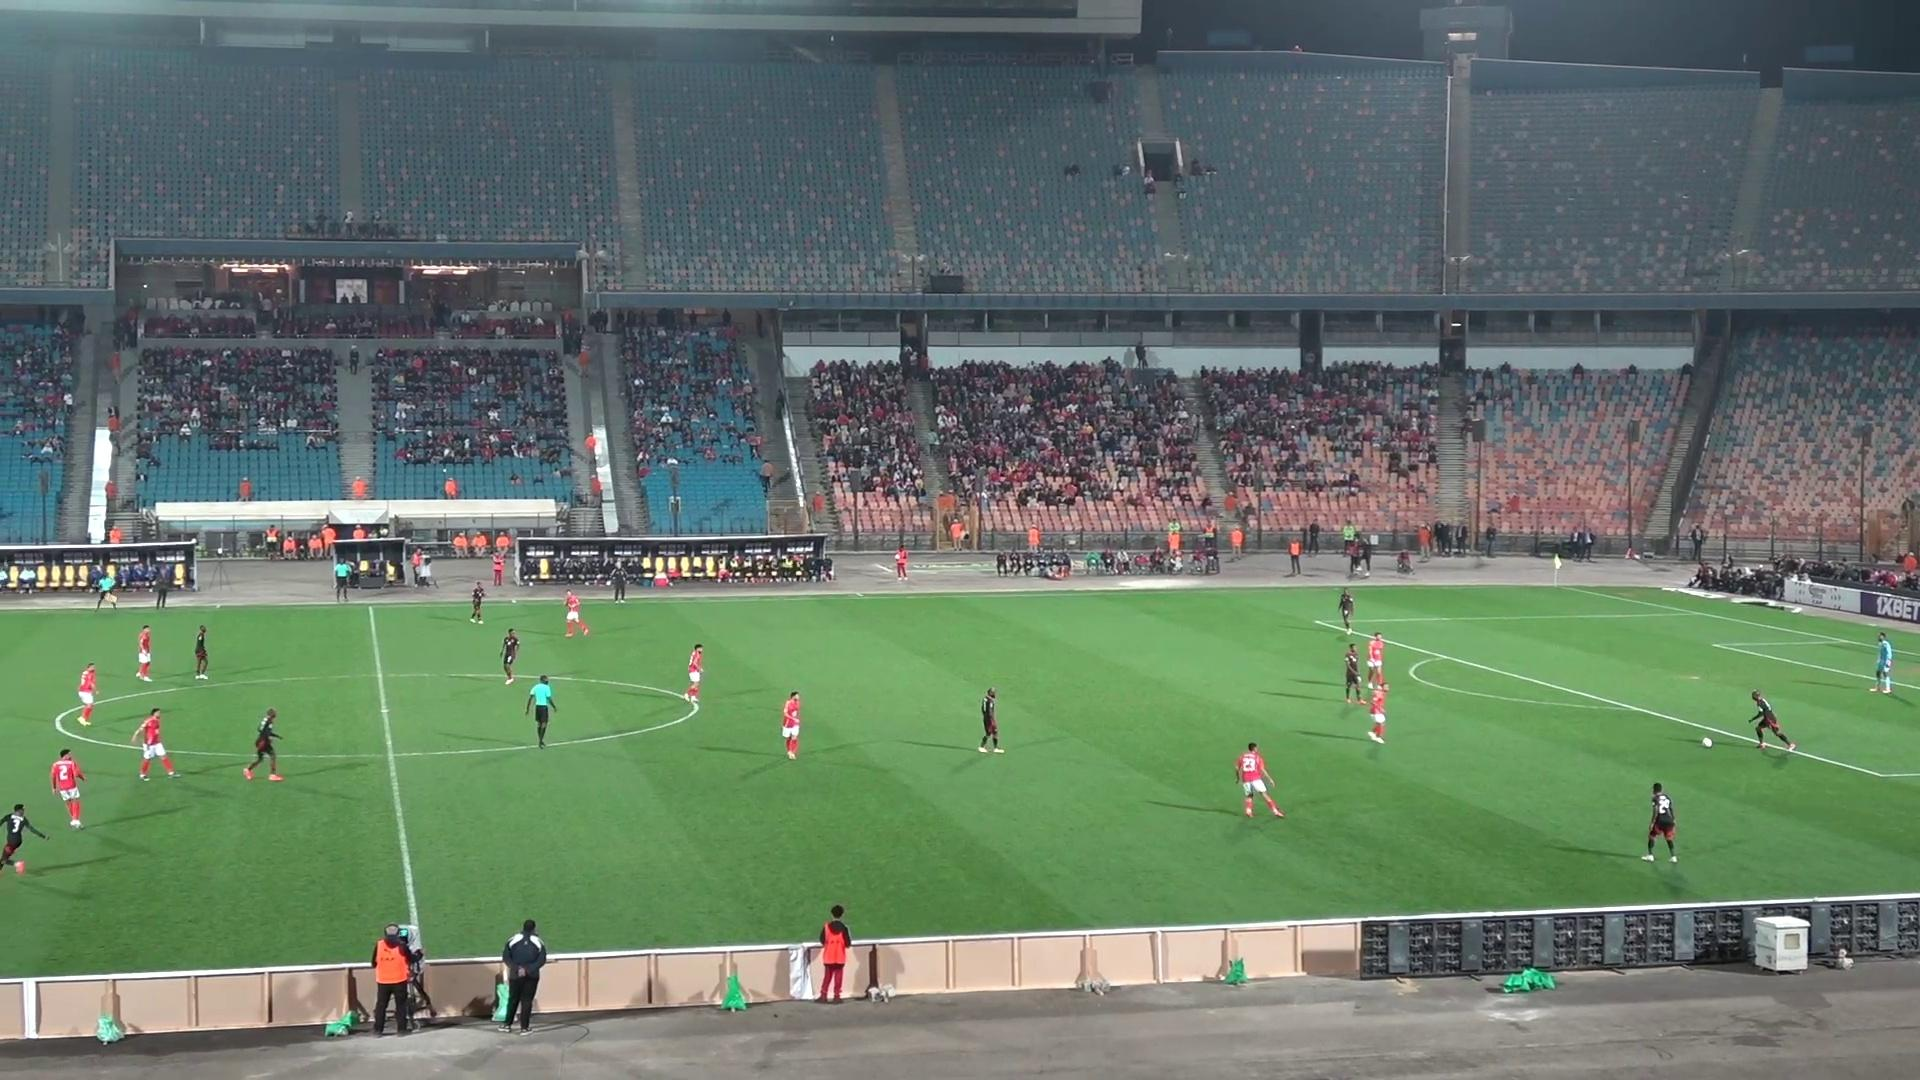Ball: (1700, 735, 1714, 750)
GK2: (1870, 629, 1894, 694)
Refree: (525, 675, 556, 748)
Team1: (1236, 742, 1283, 816), (131, 708, 177, 779), (55, 662, 98, 728), (51, 749, 84, 829), (679, 644, 704, 705), (781, 692, 803, 760), (1367, 674, 1389, 742), (1364, 632, 1386, 687), (564, 591, 591, 636), (135, 625, 152, 683)
Team2: (0, 804, 49, 874), (1640, 782, 1677, 862), (243, 709, 284, 781), (1749, 688, 1795, 750), (976, 688, 1002, 753), (498, 628, 522, 684), (1342, 641, 1364, 703), (193, 625, 211, 680), (1337, 588, 1356, 632), (468, 582, 485, 622)
